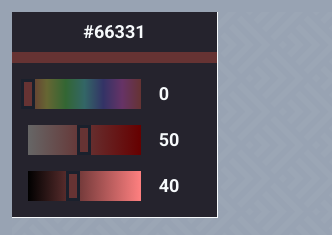
Swatch hex modifier allows for direct hexcode modificiation › Corrects text with upperCase and leading #
The width and height of the screenshot is (332, 235).
Replace the text in the field named "Modify Swatch Hex Code" with "#aaaBB" at [114, 32], box [12,12,217,52]
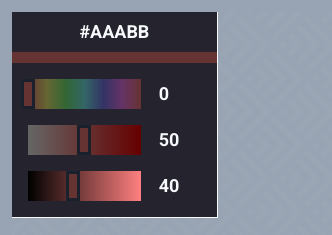
Replace the text in the field named "Modify Swatch Hex Code" with "BBBCC" at [114, 32], box [12,12,217,52]
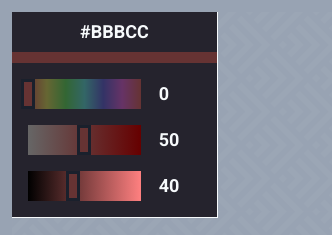
Result: the field named "Modify Swatch Hex Code" holds "#BBBCC" at [12,12,217,52]
